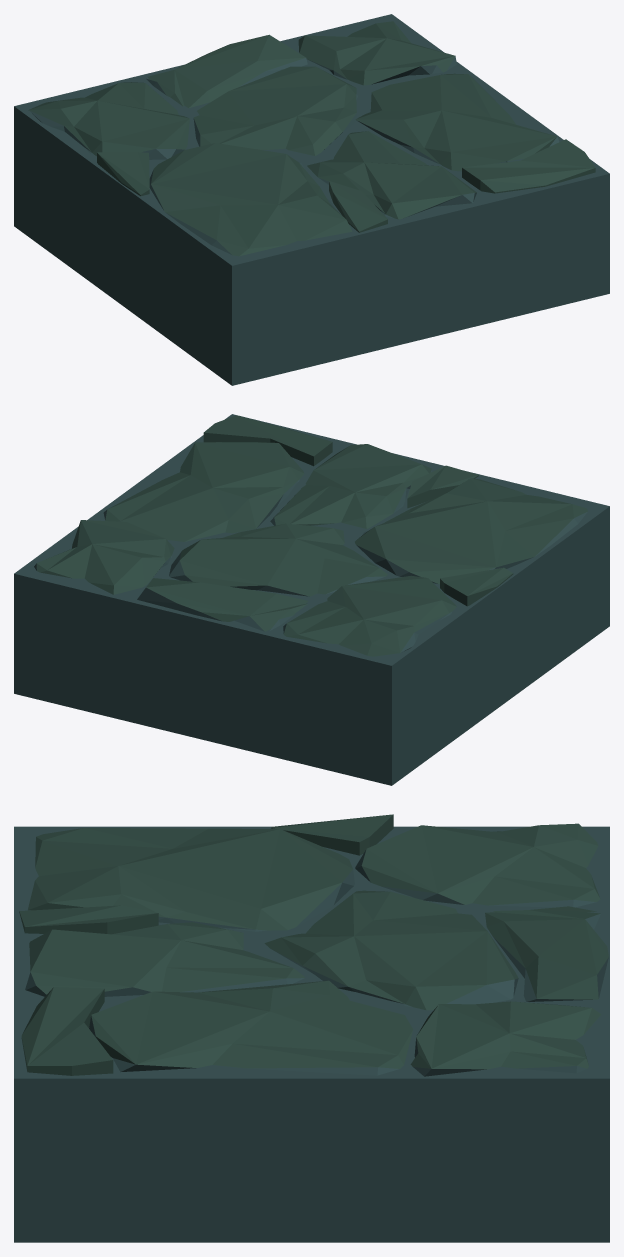
File: Ground_Tiles_Large_03.FBX
3 views of the same model, one above another, from view 1: azimuth 30°, elevation 25°; view 2: azimuth 150°, elevation 25°; view 3: azimuth 270°, elevation 25° (orthographic). The views are drawn at different scales.
Visible parts, largest first — view 1: Ground_Tiles_Large_03; view 2: Ground_Tiles_Large_03; view 3: Ground_Tiles_Large_03.
Boxes of the visible parts, x1,y1,x2,y2 form: Ground_Tiles_Large_03: [14, 14, 609, 385]; Ground_Tiles_Large_03: [14, 414, 609, 785]; Ground_Tiles_Large_03: [14, 814, 609, 1242].
Bounding box in the file's own units: 100 × 33.85 × 100.
